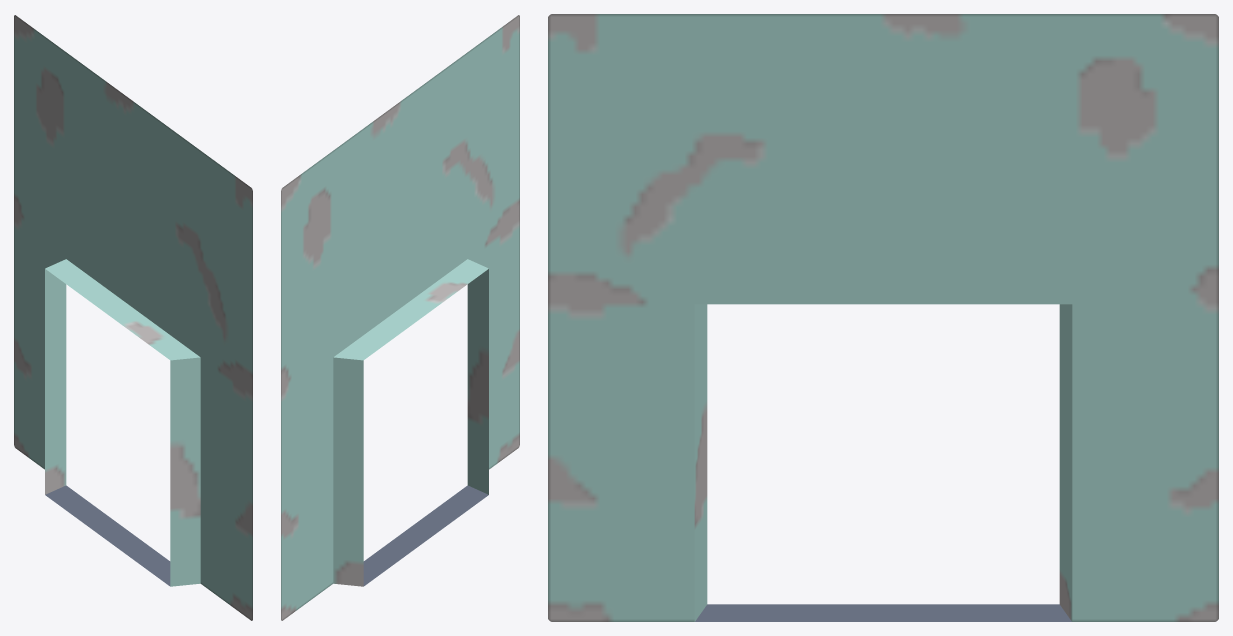
File: ParedPuertaAzul3.fbx
The picture shows the model from 3 angles, left to right: view 1: azimuth 30°, elevation 25°; view 2: azimuth 150°, elevation 25°; view 3: azimuth 270°, elevation 25°; orthographic projection. The views are drawn at different scales.
Parts seen in each view (by area): view 1: Pared + Puerta Lar; view 2: Pared + Puerta Lar; view 3: Pared + Puerta Lar.
Boxes of the visible parts, x1,y1,x2,y2 form: Pared + Puerta Lar: (14,15,252,620); Pared + Puerta Lar: (281,15,519,620); Pared + Puerta Lar: (548,14,1218,621).
Bounding box in the file's own units: 18.75 × 300 × 300.
Materials: 1 (1 with a texture image).
